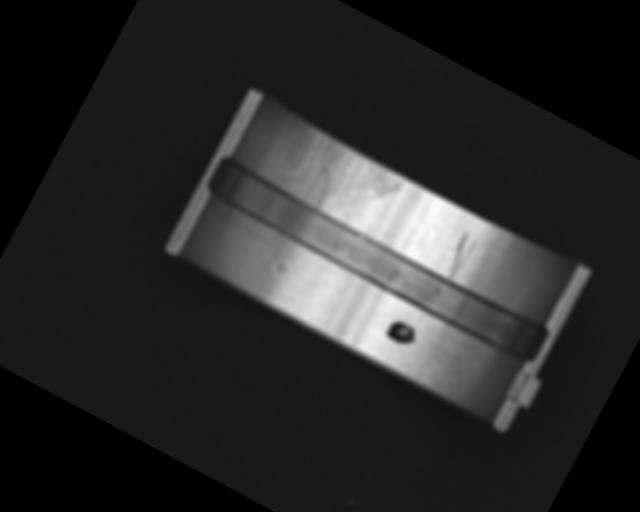blot: (383, 316, 421, 349)
bruise: (268, 253, 292, 280)
gap: (203, 154, 551, 367)
nick: (438, 229, 480, 285)
scratch: (269, 120, 408, 241)
